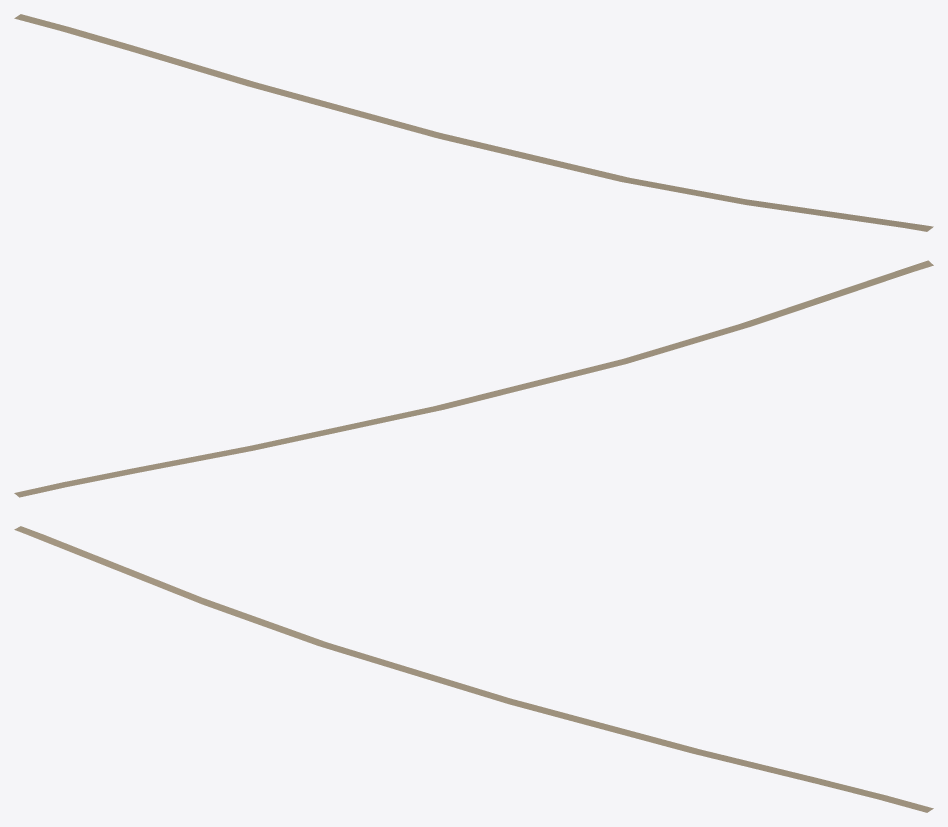
File: farm_-24_-25_track.glb
3 renders of one model, top to bottom at view 1: azimuth 90°, elevation 25°; view 2: azimuth 150°, elevation 25°; view 3: azimuth 270°, elevation 25°, orthographic. The views are drawn at different scales.
Visible parts, largest first — view 1: geometry_0; view 2: geometry_0; view 3: geometry_0.
Part boxes in pixels (x1=…): geometry_0: x1=14, y1=14, x2=933, y2=231; geometry_0: x1=14, y1=260, x2=933, y2=497; geometry_0: x1=14, y1=526, x2=933, y2=812.
Size of the model in its own units: 156 by 11.58 by 240.
